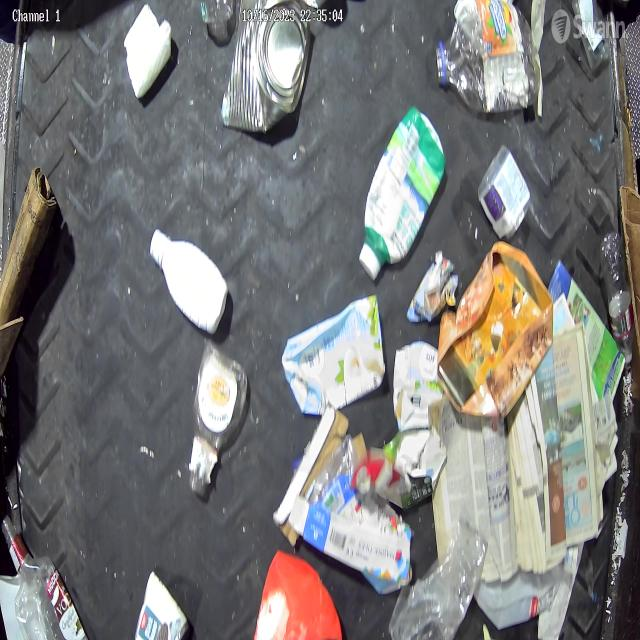can: (221, 0, 312, 133)
non_white_jug: (362, 108, 446, 279), (281, 294, 386, 415), (250, 551, 342, 640)
plastic_bottle: (437, 2, 542, 115), (599, 235, 635, 363)
